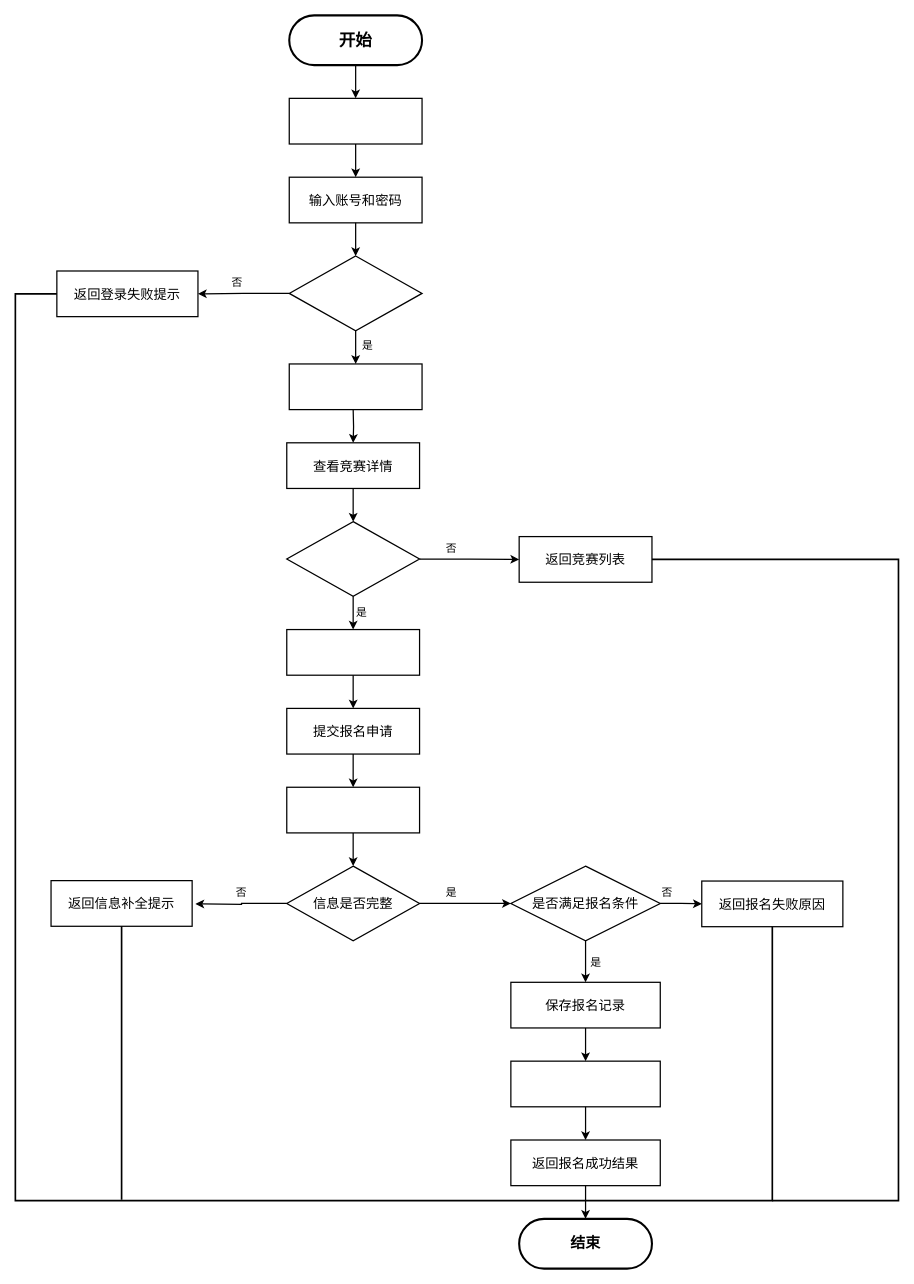
Image size: 914x1284. Some labels were removed from this diagram. Here are the shapes that lost their labels. From the top down, the box of each, then its label:
(288, 97, 422, 144): 学生进入系统
(288, 255, 422, 331): 登录是否成功
(288, 363, 422, 410): 进入竞赛列表页面
(286, 521, 420, 597): 是否选择报名
(286, 629, 420, 675): 填写报名信息
(286, 786, 420, 833): 系统校验报名信息
(510, 1060, 661, 1107): 生成报名状态
